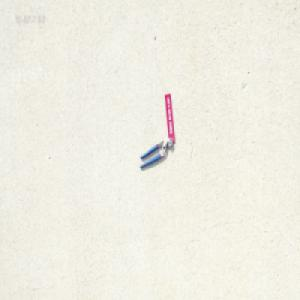Label: (164, 92, 175, 142)
Pliers: (138, 137, 172, 169)
